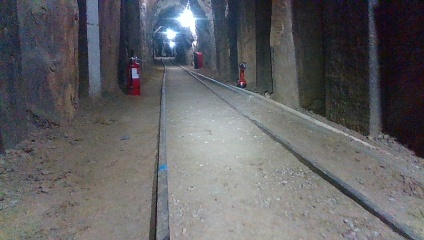backpack: (191, 50, 205, 70)
drill: (237, 61, 247, 88)
fire_extinguisher: (126, 45, 140, 96)
